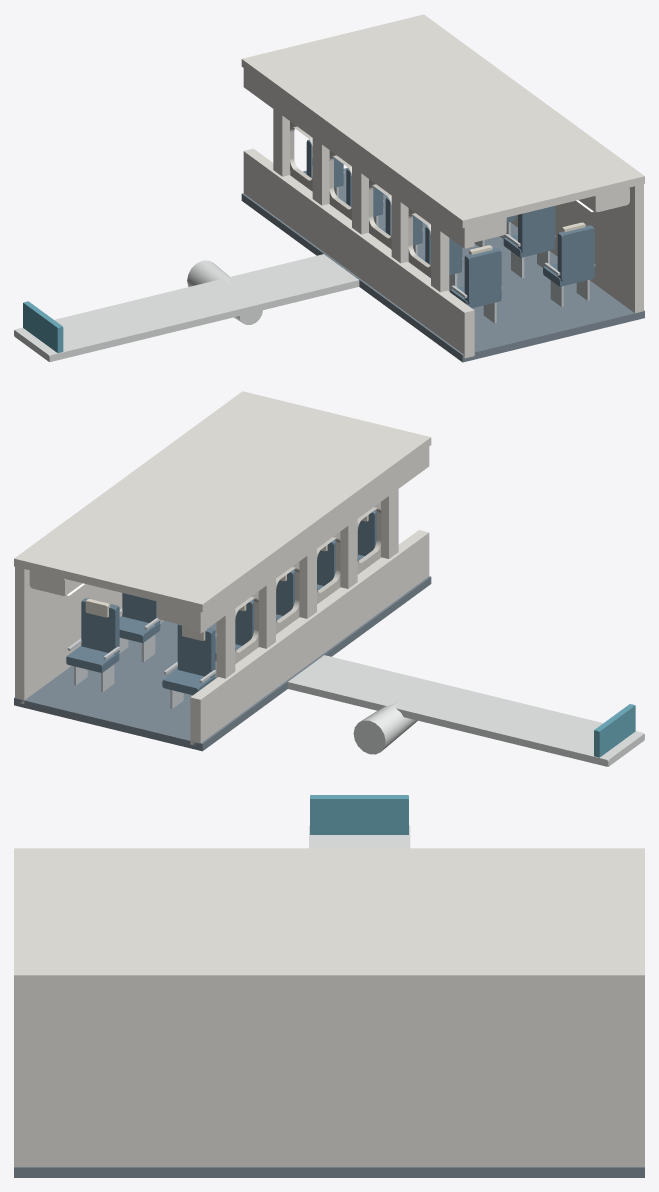
The model's file is aircraft_cabin.glb.
The picture shows the model from 3 angles, top to bottom: view 1: azimuth 30°, elevation 25°; view 2: azimuth 150°, elevation 25°; view 3: azimuth 270°, elevation 25°; orthographic projection. The views are drawn at different scales.
Visible parts, largest first — view 1: CabinWalls, CabinExteriorWing, CabinCarpetFloor, CabinSeats, CabinWindowTrim, CabinMetalFrames, CabinWinglet; view 2: CabinWalls, CabinExteriorWing, CabinCarpetFloor, CabinSeats, CabinWindowTrim, CabinMetalFrames, CabinWinglet, CabinHeadrests; view 3: CabinWalls, CabinCarpetFloor, CabinWinglet, CabinExteriorWing.
Part boxes in pixels (left/top/right/bottom): CabinWalls: left=241, top=14, right=644, bottom=358; CabinExteriorWing: left=14, top=254, right=359, bottom=361; CabinCarpetFloor: left=241, top=167, right=644, bottom=362; CabinSeats: left=303, top=139, right=594, bottom=308; CabinWindowTrim: left=290, top=121, right=430, bottom=277; CabinMetalFrames: left=334, top=171, right=595, bottom=323; CabinWinglet: left=23, top=301, right=63, bottom=352; CabinWalls: left=14, top=391, right=431, bottom=745; CabinExteriorWing: left=287, top=655, right=644, bottom=766; CabinCarpetFloor: left=14, top=576, right=431, bottom=751; CabinSeats: left=66, top=509, right=376, bottom=695; CabinWindowTrim: left=235, top=502, right=381, bottom=663; CabinMetalFrames: left=67, top=608, right=216, bottom=708; CabinWinglet: left=594, top=704, right=635, bottom=757; CabinHeadrests: left=85, top=515, right=368, bottom=640; CabinWalls: left=14, top=848, right=644, bottom=1166; CabinCarpetFloor: left=14, top=1167, right=644, bottom=1177; CabinWinglet: left=310, top=795, right=408, bottom=834; CabinExteriorWing: left=309, top=825, right=410, bottom=848.
Bounding box in the file's own units: 10.8 × 3.46 × 8.4.
